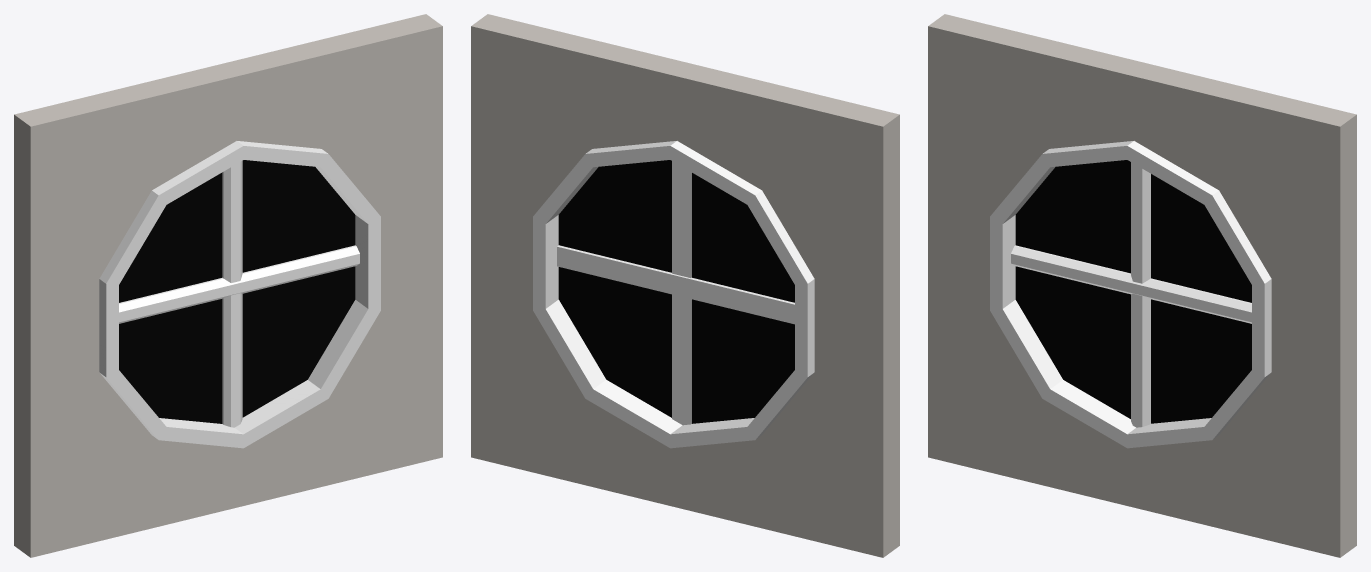
Rendered from _ROOF_TRIANGLE_QUAD_WINDOW_1.fbx.
3 views of the same model, side by side, from view 1: azimuth 30°, elevation 25°; view 2: azimuth 150°, elevation 25°; view 3: azimuth 330°, elevation 25° (orthographic).
Visible parts, largest first — view 1: ROOF_TRIANGLE_QUAD_WINDOW_1; view 2: ROOF_TRIANGLE_QUAD_WINDOW_1; view 3: ROOF_TRIANGLE_QUAD_WINDOW_1.
Part boxes in pixels (x1=…): ROOF_TRIANGLE_QUAD_WINDOW_1: x1=14, y1=14, x2=442, y2=557; ROOF_TRIANGLE_QUAD_WINDOW_1: x1=471, y1=14, x2=899, y2=557; ROOF_TRIANGLE_QUAD_WINDOW_1: x1=928, y1=14, x2=1356, y2=557.
Bounding box in the file's own units: 100 × 100 × 12.75.
